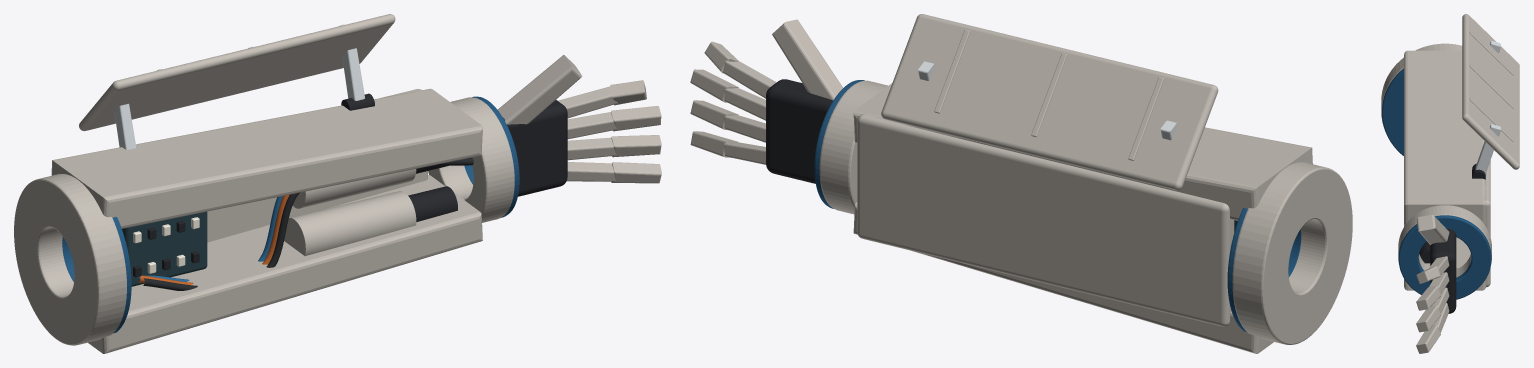
File: anatomy-09.glb
The picture shows the model from 3 angles, left to right: view 1: azimuth 30°, elevation 25°; view 2: azimuth 150°, elevation 25°; view 3: azimuth 270°, elevation 25°; orthographic projection. The views are drawn at different scales.
Parts seen in each view (by area): view 1: shell, collar, hand, hatch, drives, wrist, board, loom, hinges; view 2: shell, hatch, collar, hand, wrist, hatch-ribs; view 3: shell, hatch, wrist, hand, collar, hinges, hatch-ribs, drives.
Boxes of the visible parts, box(x1,y1,x2,y2) form: shell: box(51, 88, 482, 353); collar: box(14, 174, 131, 345); hand: box(497, 55, 661, 196); hatch: box(79, 14, 395, 131); drives: box(284, 165, 457, 255); wrist: box(428, 96, 519, 222); board: box(122, 211, 207, 286); loom: box(137, 158, 473, 290); hinges: box(114, 48, 374, 149); shell: box(853, 83, 1312, 353); hatch: box(881, 14, 1218, 190); collar: box(1227, 162, 1352, 344); hand: box(690, 19, 842, 183); wrist: box(814, 80, 887, 214); hatch-ribs: box(934, 29, 1164, 160); shell: box(1404, 50, 1490, 290); hatch: box(1462, 14, 1519, 169); wrist: box(1398, 205, 1491, 299); hand: box(1416, 214, 1456, 353); collar: box(1381, 43, 1462, 155); hinges: box(1472, 40, 1500, 179); hatch-ribs: box(1469, 31, 1513, 141); drives: box(1419, 241, 1430, 263).
Size of the model in its own units: 2.73 by 1.02 by 0.7393.
